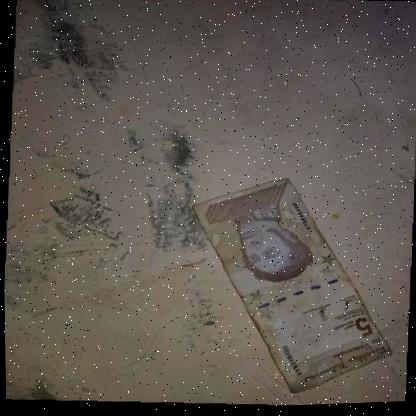five-front-vef: (184, 173, 398, 403)
